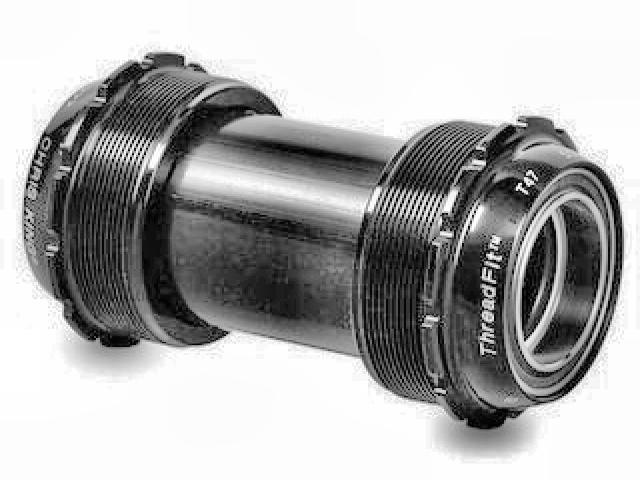bottom_bracket: (21, 50, 632, 434)
